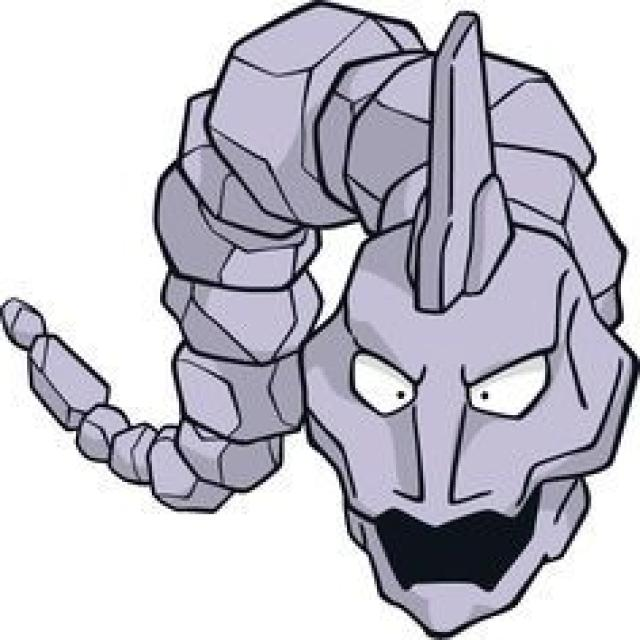Onix: (166, 4, 635, 636)
